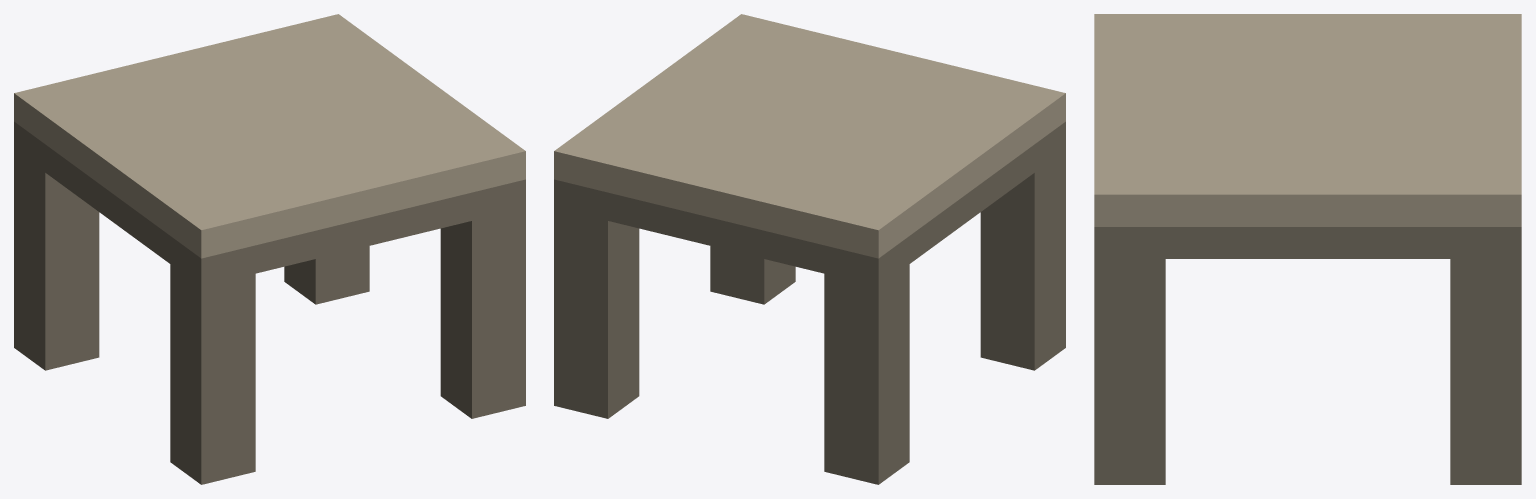
File: mesa_mezcla_01.glb
3 views of the same model, side by side, from view 1: azimuth 30°, elevation 25°; view 2: azimuth 150°, elevation 25°; view 3: azimuth 270°, elevation 25° (orthographic). The views are drawn at different scales.
Visible parts, largest first — view 1: mesa_mezcla; view 2: mesa_mezcla; view 3: mesa_mezcla.
Part boxes in pixels (x1=…): mesa_mezcla: x1=14, y1=14, x2=525, y2=484; mesa_mezcla: x1=554, y1=14, x2=1065, y2=484; mesa_mezcla: x1=1094, y1=14, x2=1521, y2=484.
Size of the model in its own units: 1 by 0.75 by 1.
